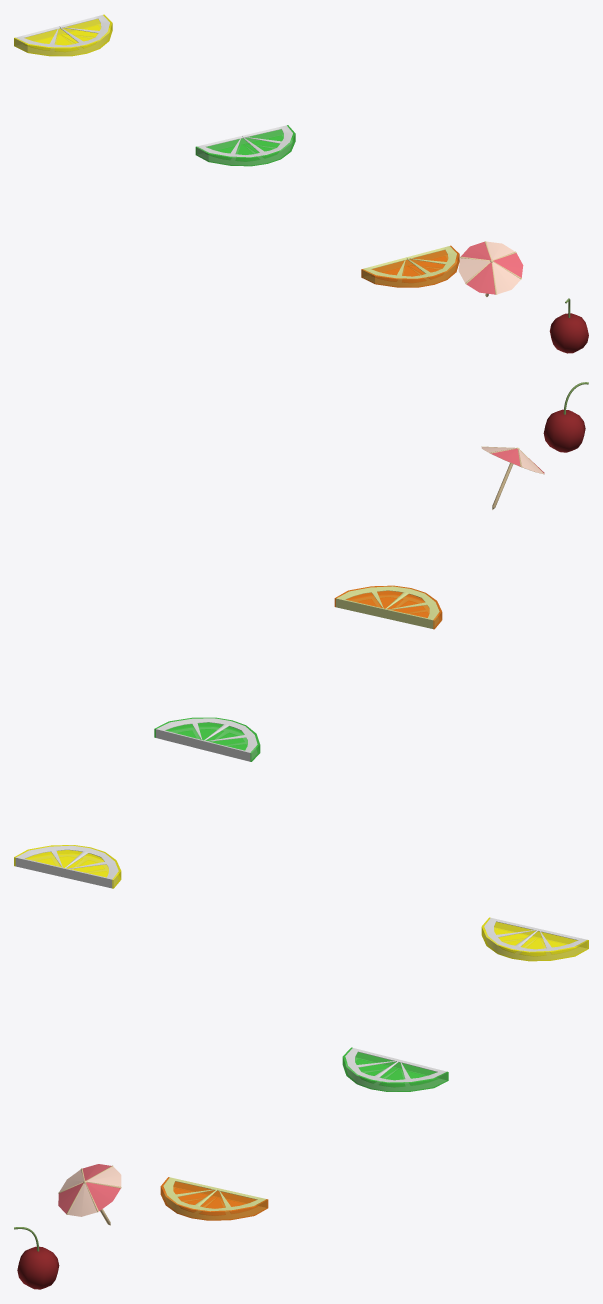
The model's file is DrinkToppings.fbx.
3 renders of one model, top to bottom at view 1: azimuth 30°, elevation 25°; view 2: azimuth 150°, elevation 25°; view 3: azimuth 330°, elevation 25°, orthographic. The views are drawn at different scales.
Parts seen in each view (by area): view 1: Lime.018, Lemon.019, Orange.018, Umbrella2.006, Cherry.006; view 2: Orange.018, Lemon.019, Lime.018, Cherry.006, Umbrella2.006; view 3: Orange.018, Lemon.019, Lime.018, Umbrella2.006, Cherry.006.
Part boxes in pixels (x1,y1,x2,y2): Lime.018: (195, 125, 295, 166); Lemon.019: (14, 14, 112, 56); Orange.018: (361, 245, 459, 287); Umbrella2.006: (458, 241, 523, 297); Cherry.006: (549, 298, 588, 353); Orange.018: (334, 585, 442, 629); Lemon.019: (14, 845, 121, 888); Lime.018: (154, 717, 260, 761); Cherry.006: (543, 382, 588, 452); Umbrella2.006: (481, 446, 544, 509); Orange.018: (160, 1177, 268, 1220); Lemon.019: (481, 917, 588, 961); Lime.018: (342, 1047, 448, 1091); Umbrella2.006: (58, 1164, 121, 1225); Cherry.006: (14, 1227, 59, 1289).
Size of the model in its own units: 17.15 by 13.56 by 126.
